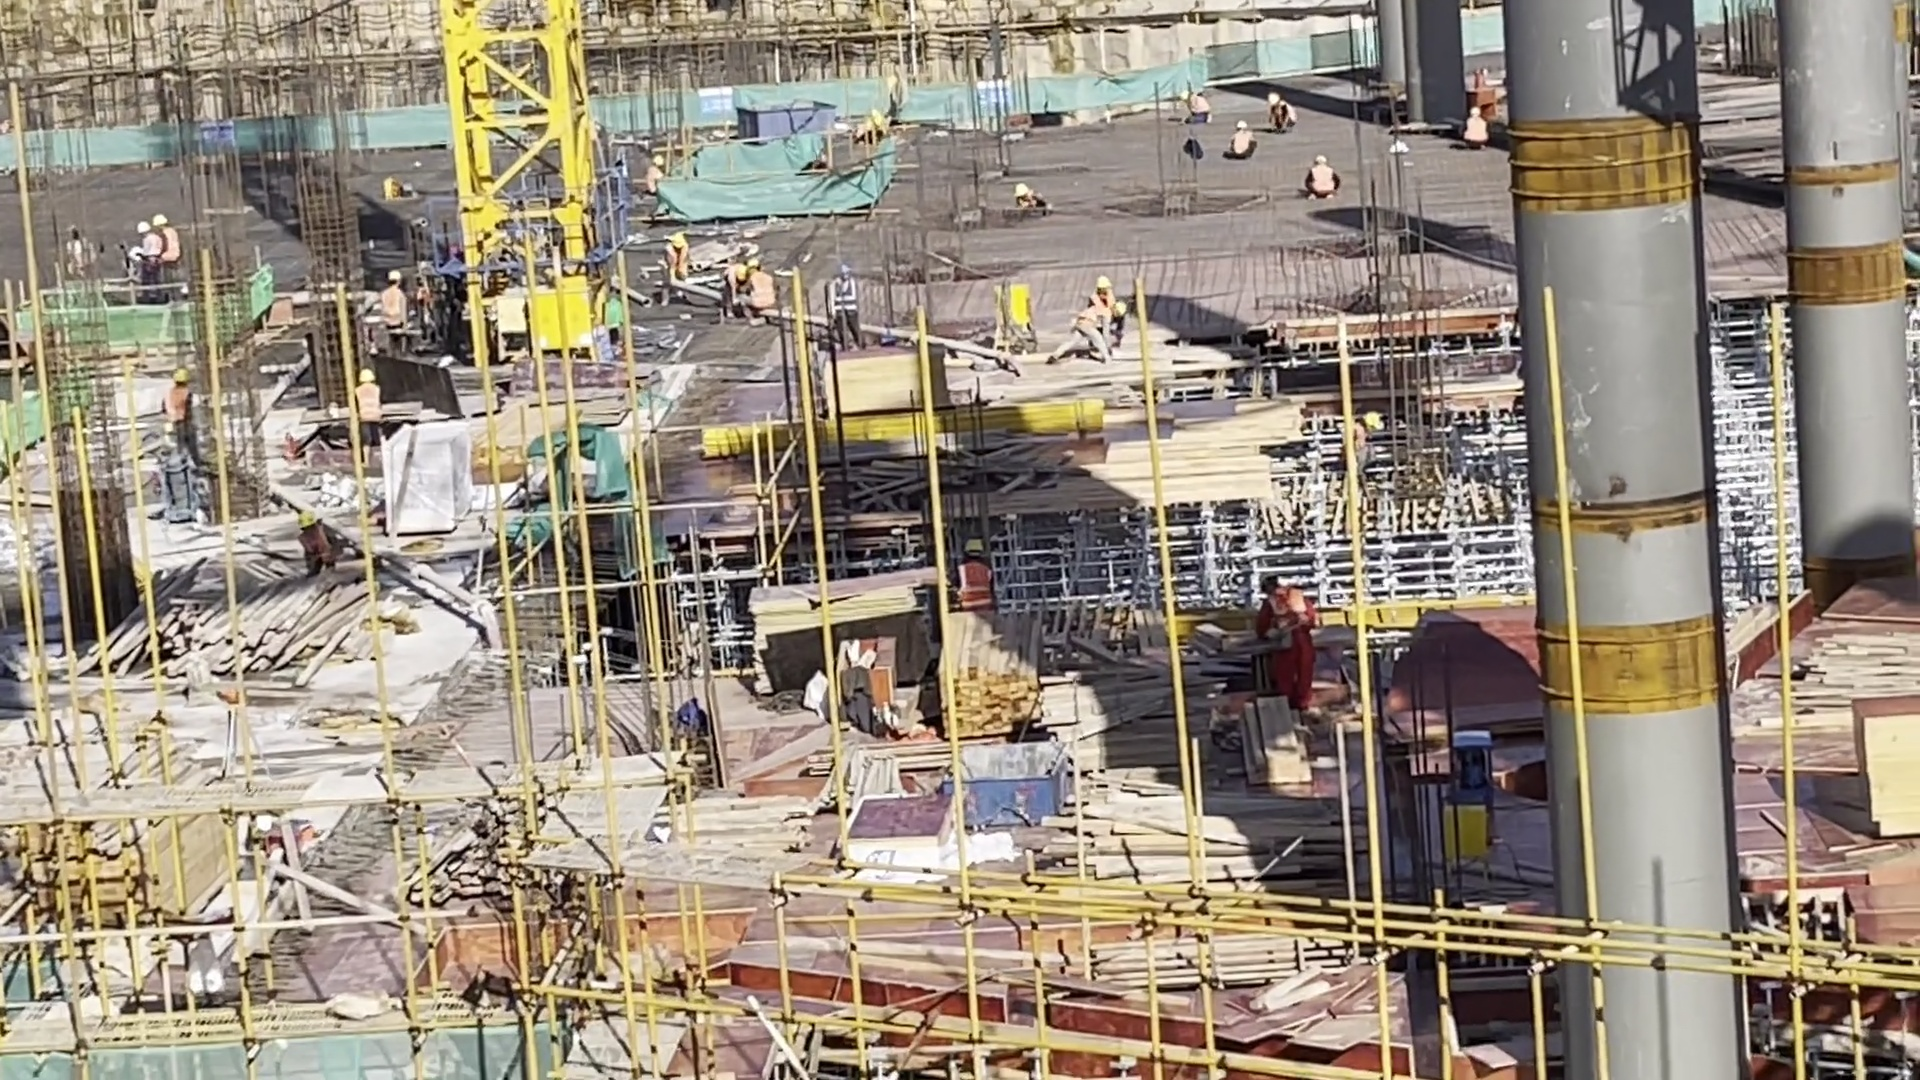ebox: (1430, 805, 1504, 874)
helmet: (962, 530, 985, 557), (1085, 273, 1112, 292), (1254, 574, 1275, 596), (648, 150, 670, 172), (669, 230, 689, 253), (840, 264, 860, 285), (1466, 104, 1483, 122), (748, 258, 765, 275), (1261, 91, 1281, 105), (1310, 153, 1326, 168), (1233, 119, 1248, 135), (1012, 184, 1027, 198), (1180, 89, 1196, 102)
hopper: (943, 735, 1081, 844)
person: (1256, 573, 1316, 701), (935, 521, 998, 619), (1051, 304, 1126, 368), (344, 367, 392, 460), (161, 364, 208, 444), (826, 263, 868, 349), (1336, 411, 1392, 474), (149, 213, 190, 283), (657, 232, 698, 297), (295, 512, 341, 568), (377, 273, 410, 351), (133, 223, 163, 303), (743, 259, 776, 325), (1222, 114, 1261, 164), (1304, 155, 1342, 202), (636, 150, 673, 198), (1453, 103, 1493, 146), (1007, 186, 1053, 221), (720, 255, 744, 322), (1266, 94, 1301, 138), (1083, 270, 1121, 308), (1179, 89, 1212, 128)
vest: (1266, 602, 1322, 648), (961, 562, 995, 609), (833, 286, 864, 325), (161, 391, 188, 429), (357, 387, 380, 426), (380, 292, 401, 328), (1230, 130, 1253, 158), (1313, 169, 1333, 193), (1465, 119, 1483, 144)
wood: (1064, 749, 1341, 900), (119, 587, 362, 705), (1077, 937, 1336, 1004), (933, 615, 1051, 757)
